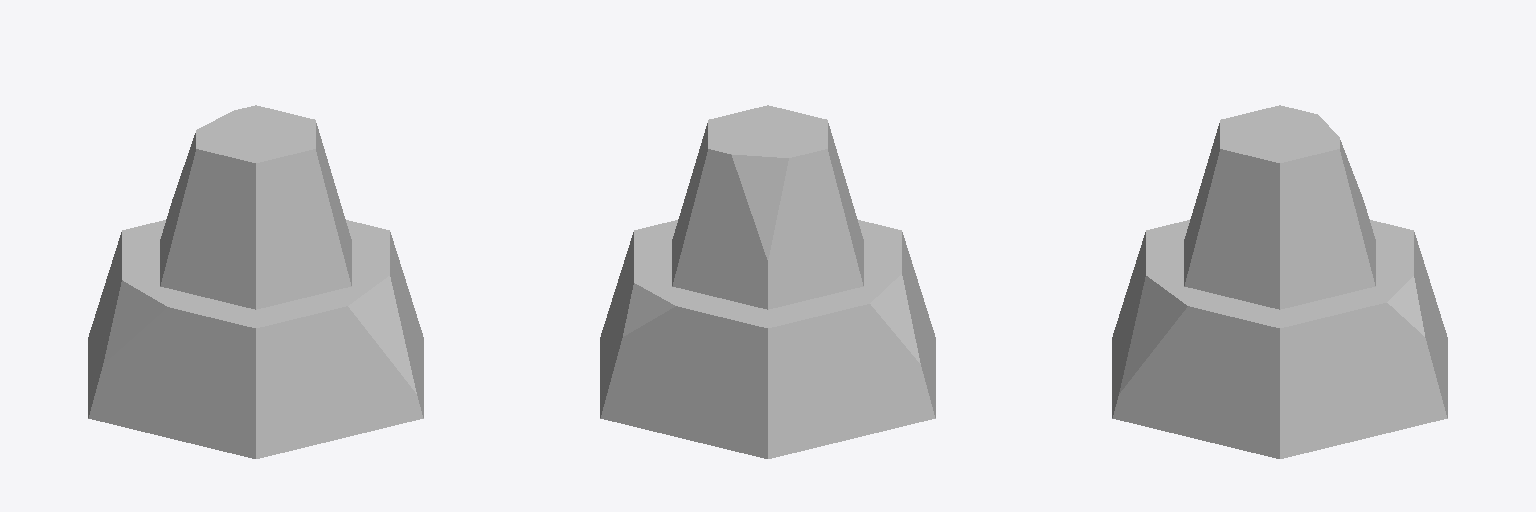
File: stone_smallF.obj
3 views of the same model, side by side, from view 1: azimuth 30°, elevation 25°; view 2: azimuth 150°, elevation 25°; view 3: azimuth 270°, elevation 25° (orthographic).
Parts seen in each view (by area): view 1: stone_smallF; view 2: stone_smallF; view 3: stone_smallF.
Boxes of the visible parts, x1,y1,x2,y2 form: stone_smallF: [88, 105, 423, 458]; stone_smallF: [600, 105, 935, 458]; stone_smallF: [1112, 105, 1447, 458].
Bounding box in the file's own units: 0.3536 × 0.2453 × 0.3062.